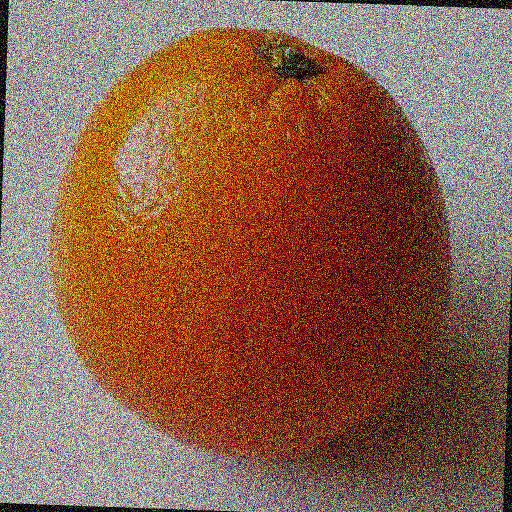fruit: (397, 143, 489, 490)
